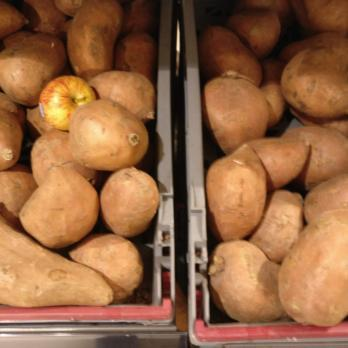Sweet potato: (204, 4, 348, 325), (51, 158, 155, 308), (0, 0, 158, 72), (0, 122, 52, 310), (72, 102, 148, 165)
